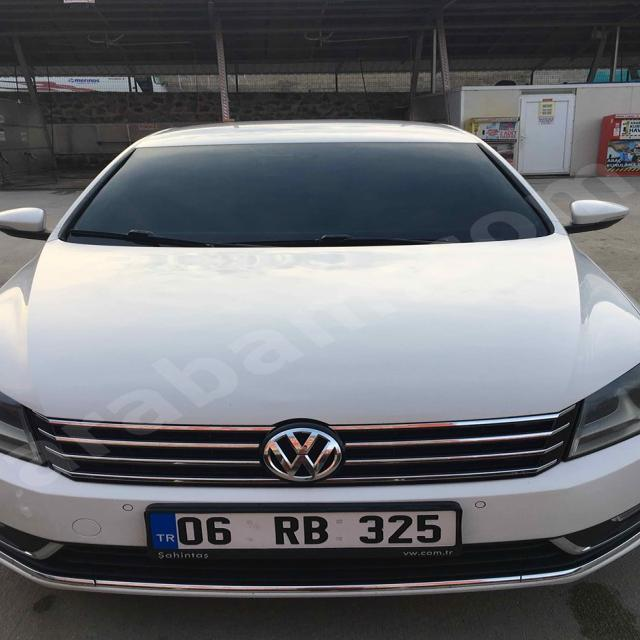license_plate: (147, 508, 460, 550)
